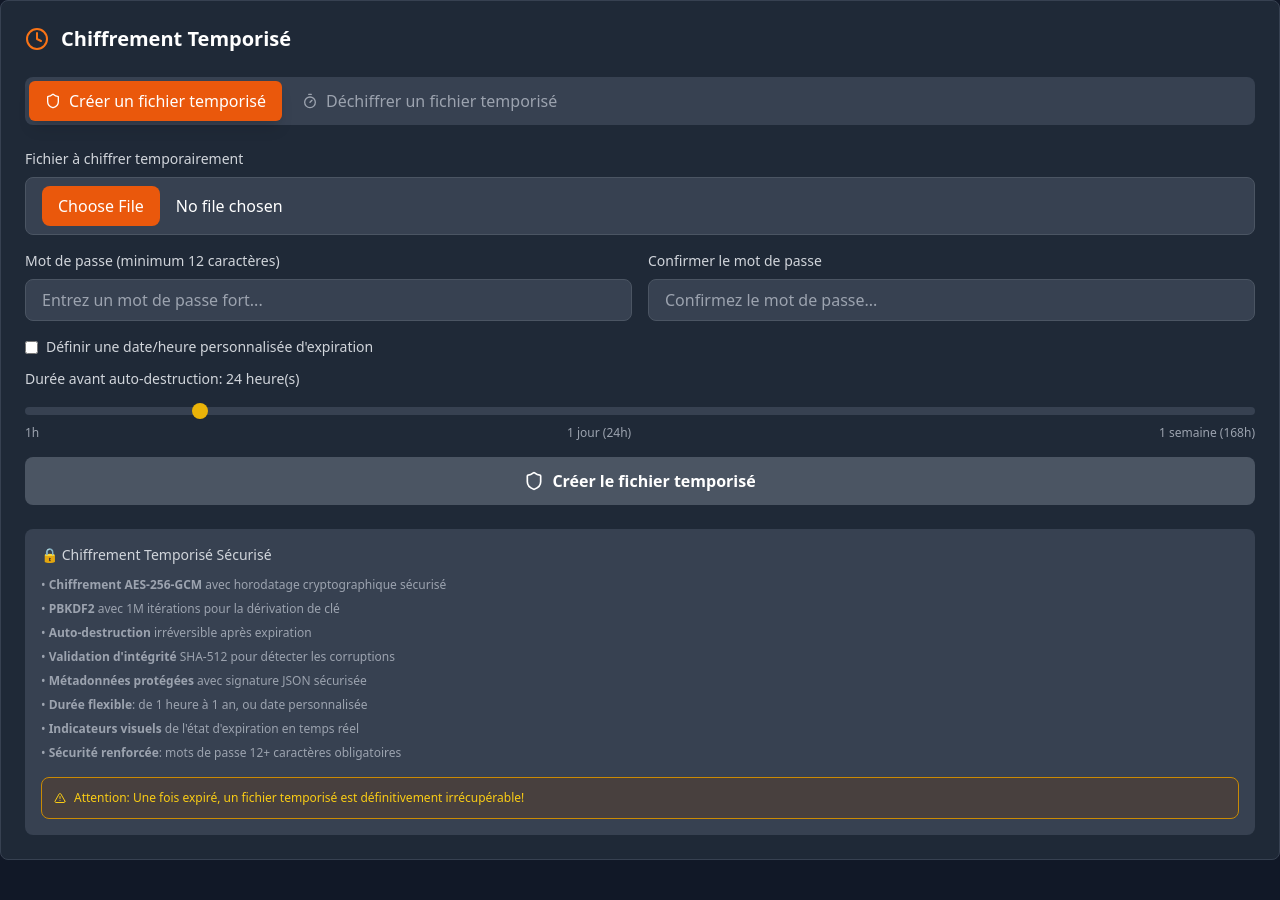
Scenario: TimedEncryptionComponent › should allow setting destruction time
Note: Directly set the value using fireEvent
Set the slider showing "24" to "48" at (375, 411), box x1=25 y1=407 x2=1255 y2=415
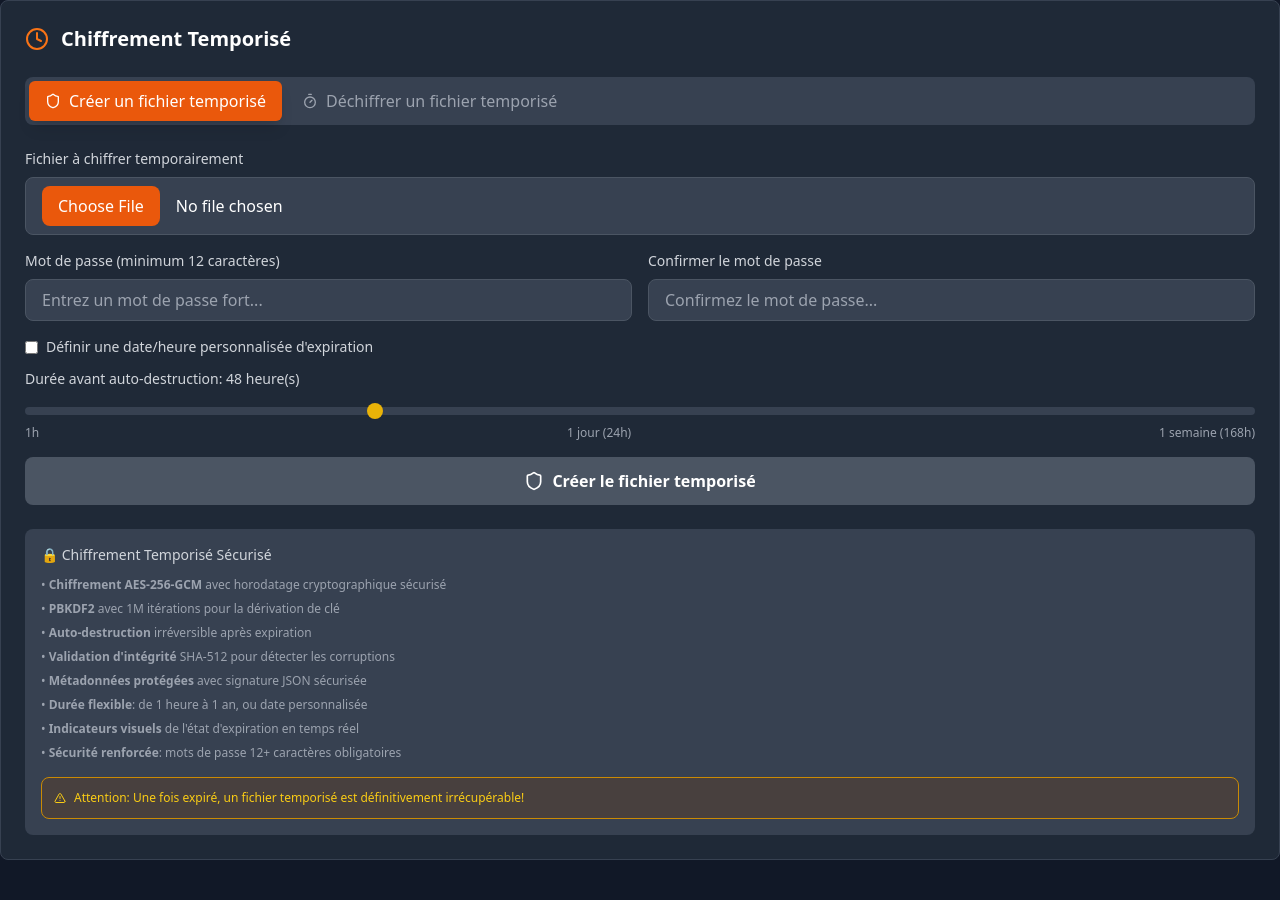
Expected: the text "Durée avant auto-destruction: 48 heure(s)" is shown, x1=25 y1=369 x2=300 y2=388
